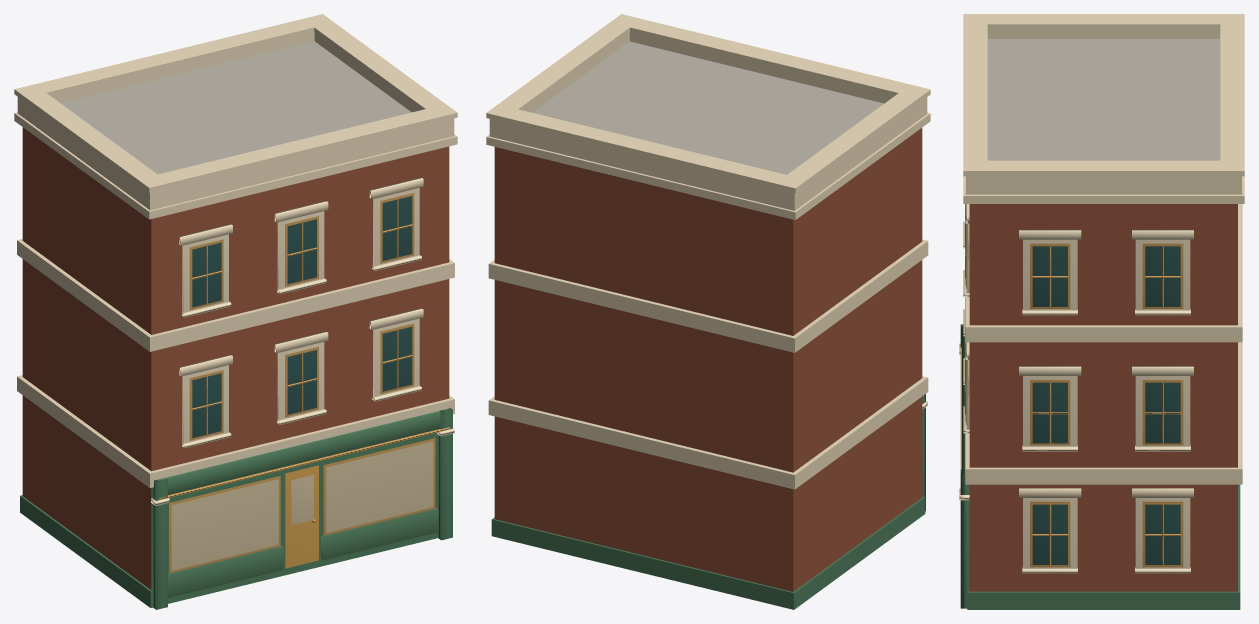
Rendered from building_apartment_brick.glb.
3 renders of one model, left to right at view 1: azimuth 30°, elevation 25°; view 2: azimuth 150°, elevation 25°; view 3: azimuth 270°, elevation 25°, orthographic. The views are drawn at different scales.
Parts seen in each view (by area): view 1: WallUpper, Roof, ParapetCap, WallGround, Parapet, Band1, ShopWinGlass0, ShopWinGlass1, Band0, ShopFascia, Cornice, GreenBase (+24 smaller); view 2: WallUpper, WallGround, Roof, ParapetCap, Parapet, GreenBase, Band0, Band1, Cornice; view 3: WallUpper, Roof, WallGround, ParapetCap, Parapet, Band0, Band1, GreenBase, Cornice, S2W0Glass, S2W1Glass, S3W0Glass (+23 smaller).
Boxes of the visible parts, box(x1,y1,x2,y2) form: WallUpper: box(22, 127, 449, 471); Roof: box(61, 41, 411, 174); ParapetCap: box(14, 14, 457, 192); WallGround: box(22, 395, 151, 590); Parapet: box(17, 32, 454, 210); Band1: box(17, 239, 454, 351); ShopWinGlass0: box(171, 479, 278, 570); ShopWinGlass1: box(326, 441, 433, 532); Band0: box(17, 375, 454, 487); ShopFascia: box(157, 411, 440, 495); Cornice: box(14, 112, 457, 219); GreenBase: box(20, 495, 437, 607); WallUpper: box(494, 128, 922, 472); WallGround: box(494, 396, 922, 591); Roof: box(532, 41, 883, 174); ParapetCap: box(486, 14, 930, 193); Parapet: box(489, 32, 927, 210); GreenBase: box(491, 496, 925, 609); Band0: box(488, 376, 928, 489); Band1: box(488, 239, 928, 352); Cornice: box(486, 112, 930, 219); WallUpper: box(969, 204, 1237, 467); Roof: box(987, 39, 1220, 160); WallGround: box(969, 484, 1237, 591); ParapetCap: box(963, 14, 1244, 176); Parapet: box(966, 29, 1241, 194); Band0: box(965, 342, 1242, 484); Band1: box(965, 204, 1242, 342); GreenBase: box(967, 484, 1240, 609); Cornice: box(963, 176, 1244, 203); S2W0Glass: box(1032, 382, 1067, 443); S2W1Glass: box(1145, 382, 1180, 443); S3W0Glass: box(1032, 246, 1067, 306).
Bounding box in the file's own units: 5.8 × 7.6 × 4.45.
